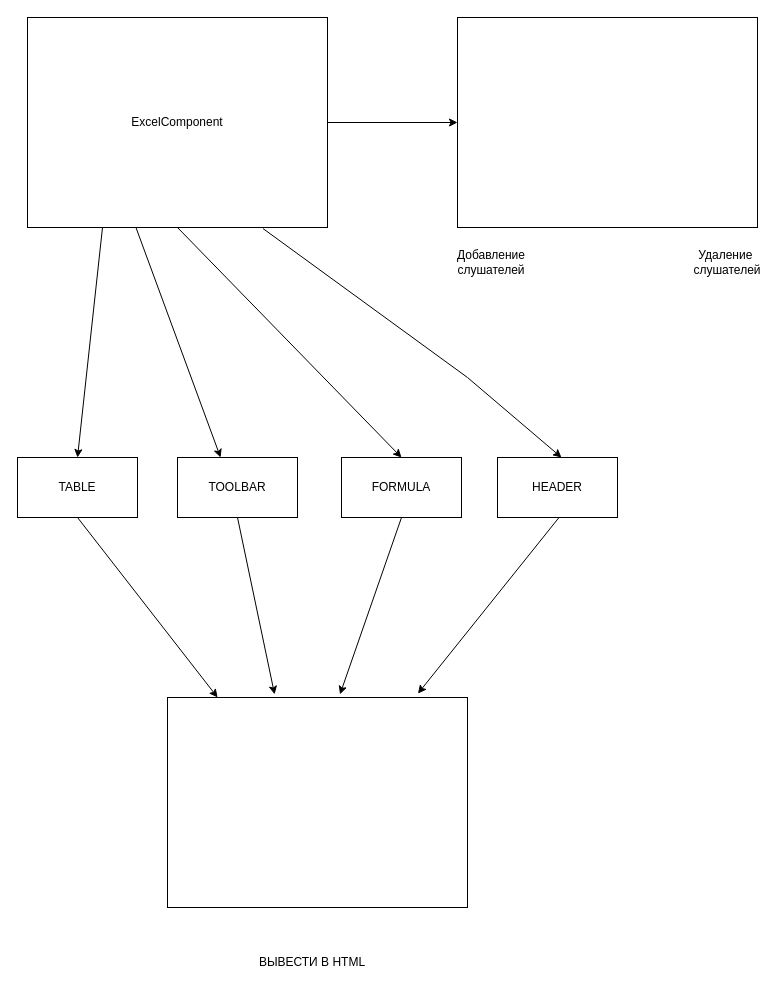
Image size: 778x1005. Some labels were removed from this diagram. Each missing label, with the box of its shape:
DOMListener: (456, 16, 758, 228)
EXCEL: (166, 696, 468, 908)
